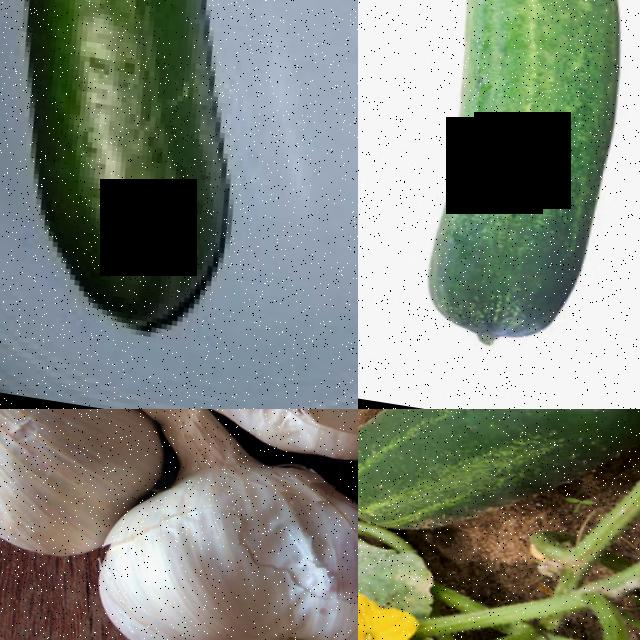cucumber: (0, 0, 283, 346), (385, 0, 640, 364), (358, 409, 640, 564)
garlic: (70, 460, 358, 640), (0, 409, 129, 568)
